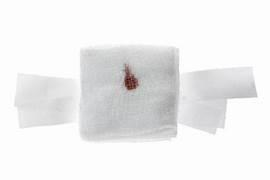cotton: (15, 45, 256, 140), (80, 45, 178, 140), (179, 67, 256, 132), (178, 68, 255, 132), (15, 74, 78, 127), (15, 74, 78, 126), (180, 67, 256, 100), (15, 74, 78, 106), (178, 99, 226, 133), (18, 102, 77, 127)
